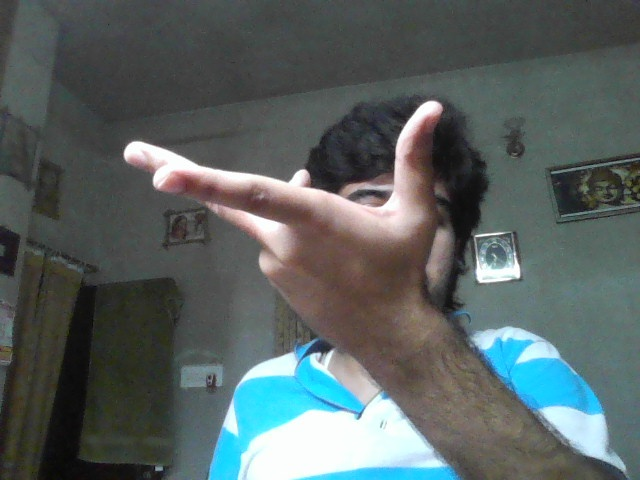What: (123, 102, 446, 336)
